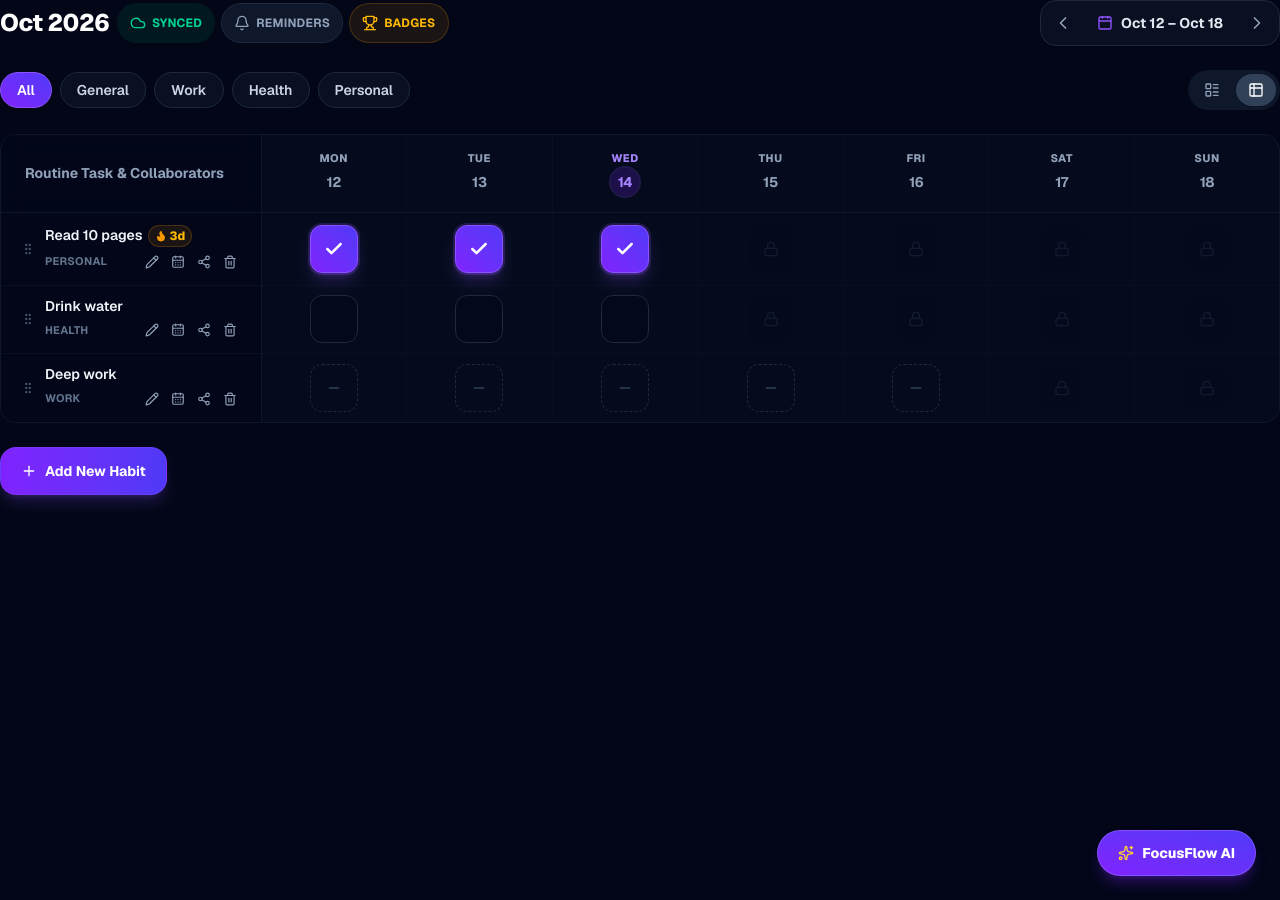
Weekly Tracker › shows days off as rest days and saves a new schedule
What coordinates should you click on to do the following:
click the button named "Schedule for Drink water"
I would click on:
 (178, 330)
Its box is x1=166 y1=319 x2=188 y2=341.
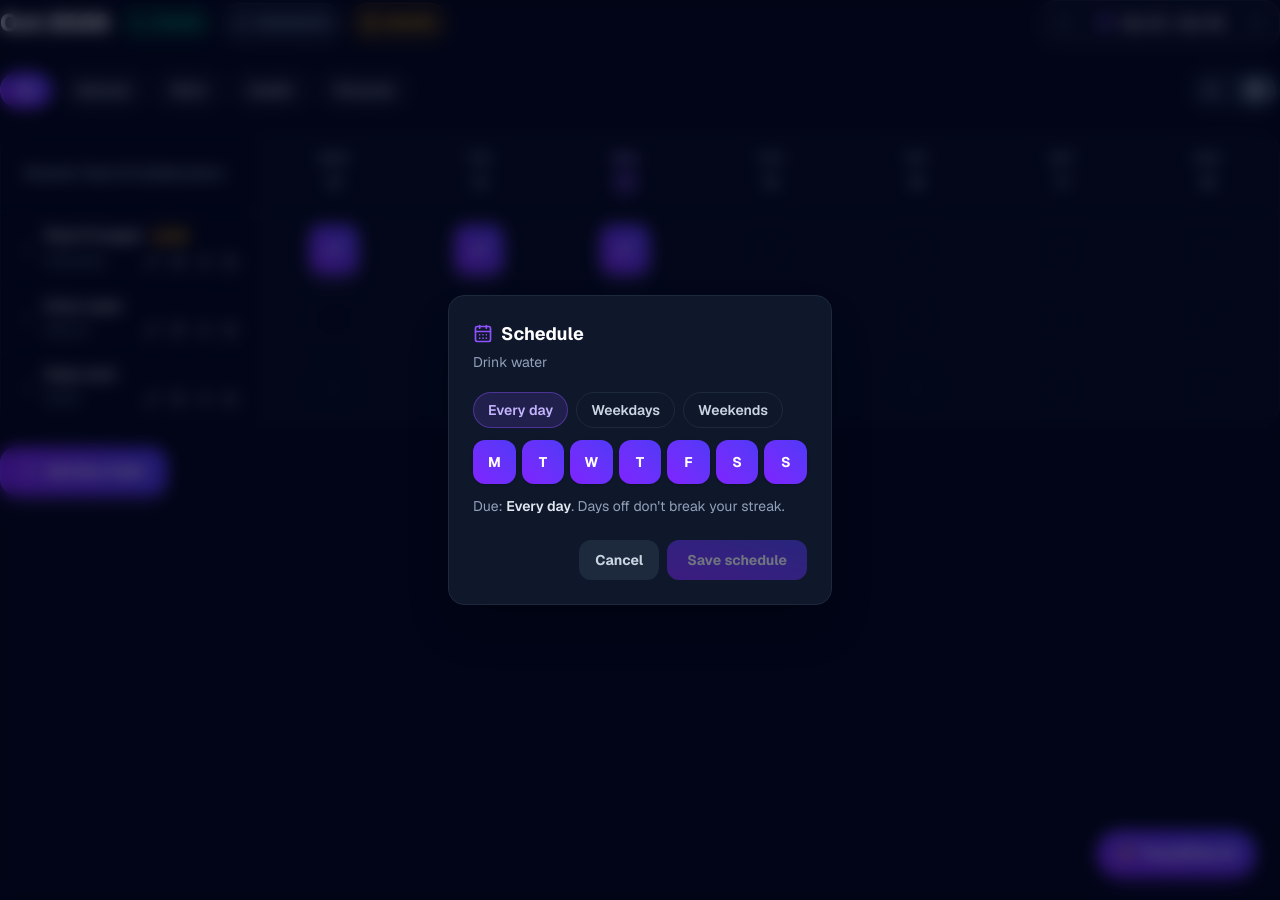
What coordinates should you click on to do the following:
click the button "Weekdays"
I would click on:
 (626, 410)
Its box is x1=576 y1=392 x2=675 y2=428.
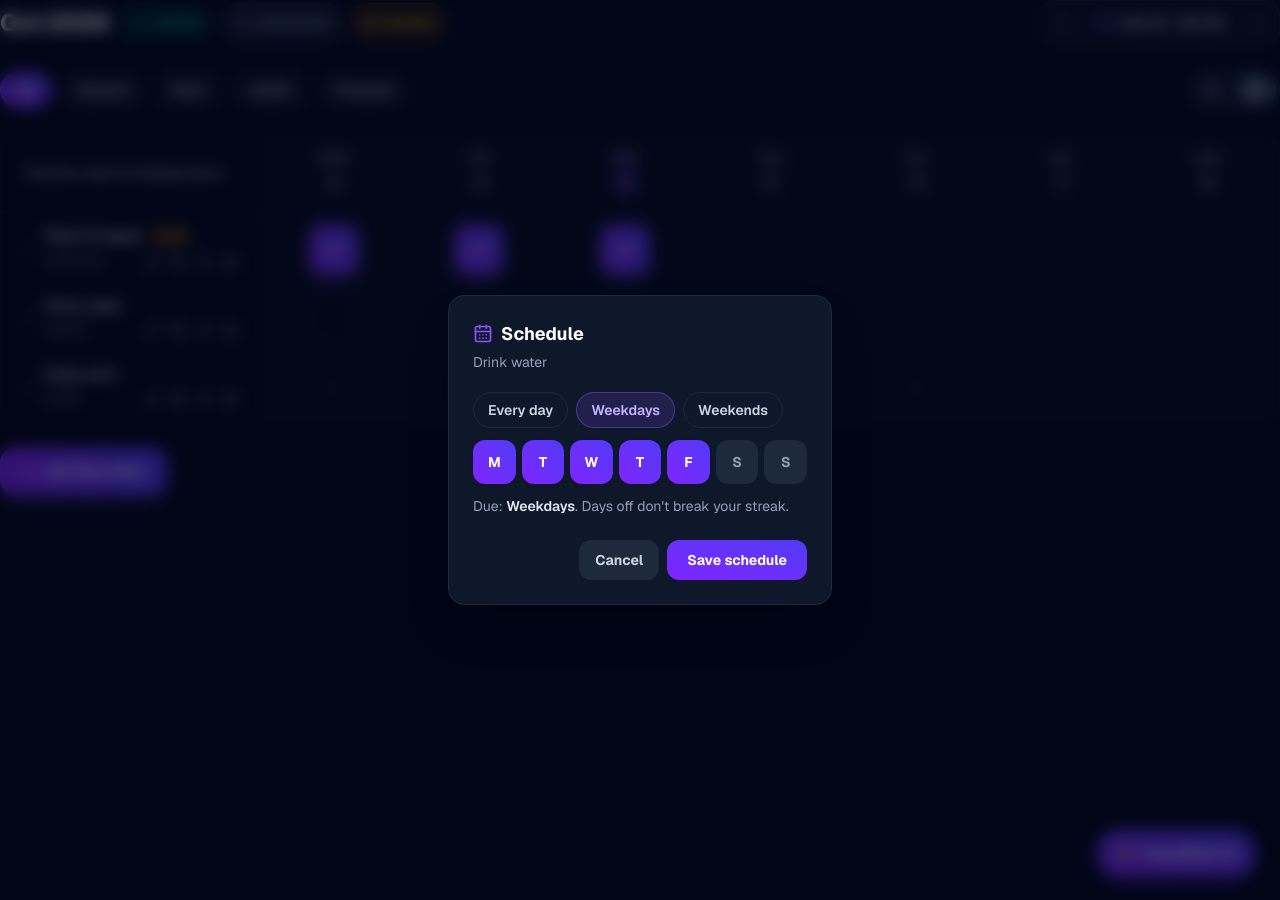
What coordinates should you click on to do the following:
click the button "Save schedule"
I would click on:
 (737, 560)
Its box is x1=667 y1=540 x2=807 y2=580.
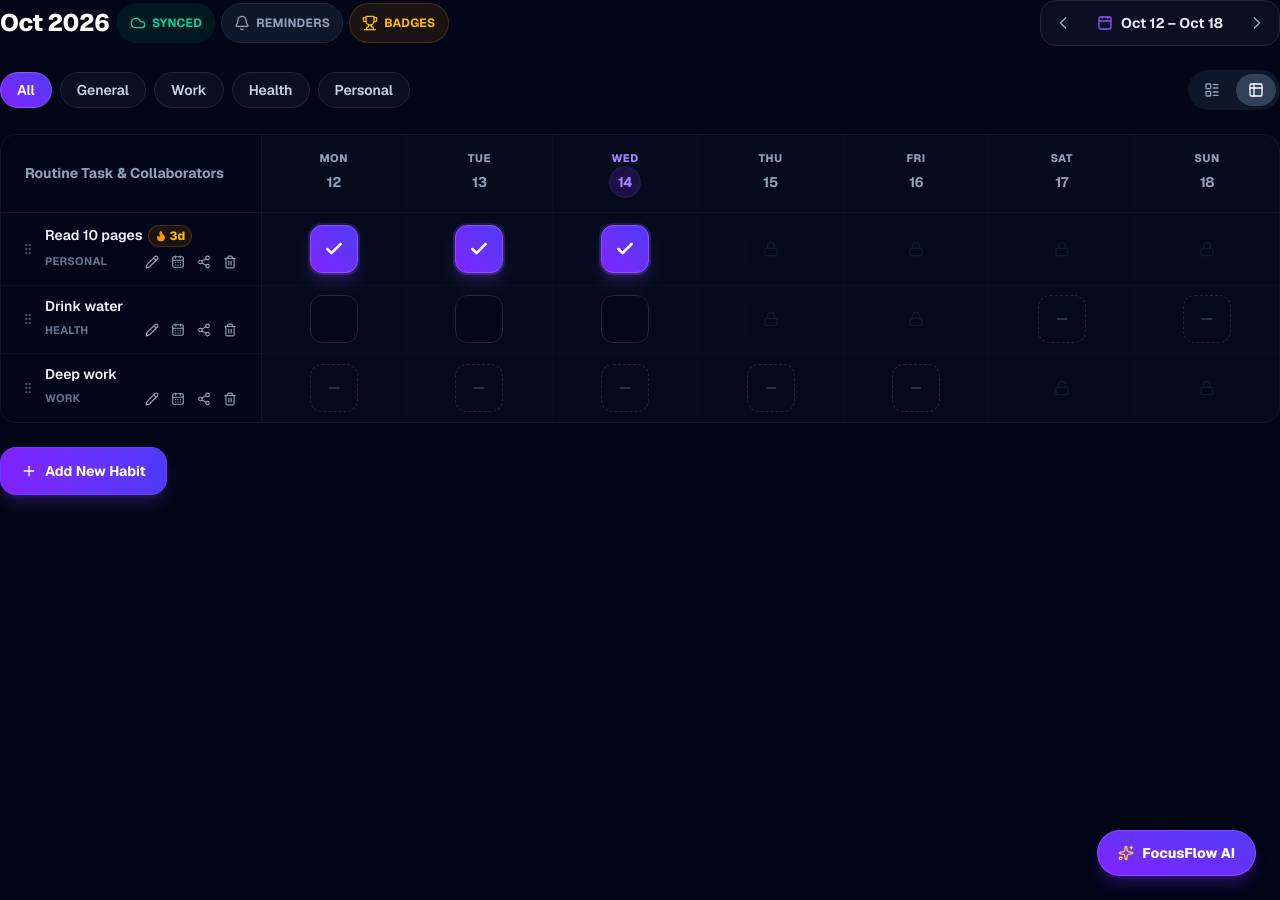
Expected: the button named "Drink water, 2026-10-18, rest day" is shown, x1=1183 y1=295 x2=1231 y2=343
